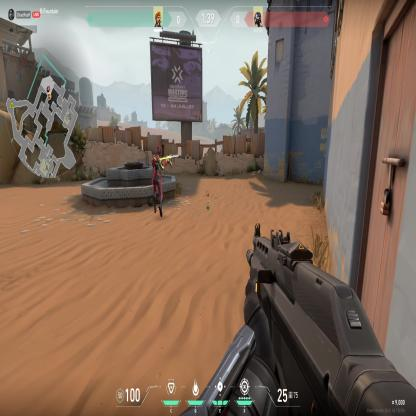enemy: (151, 143, 173, 217)
